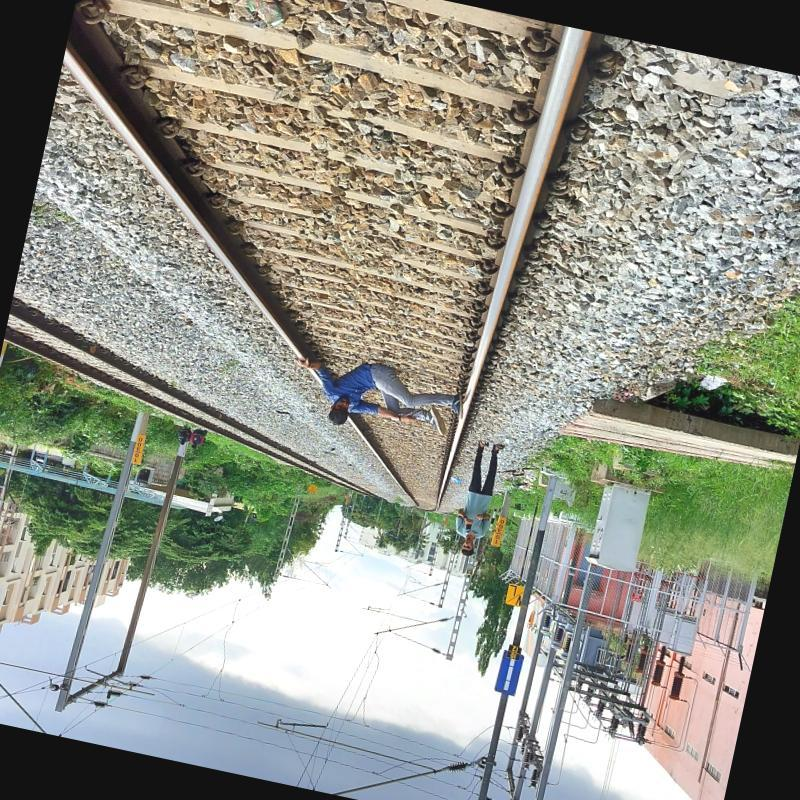sleeping: (282, 345, 470, 452)
